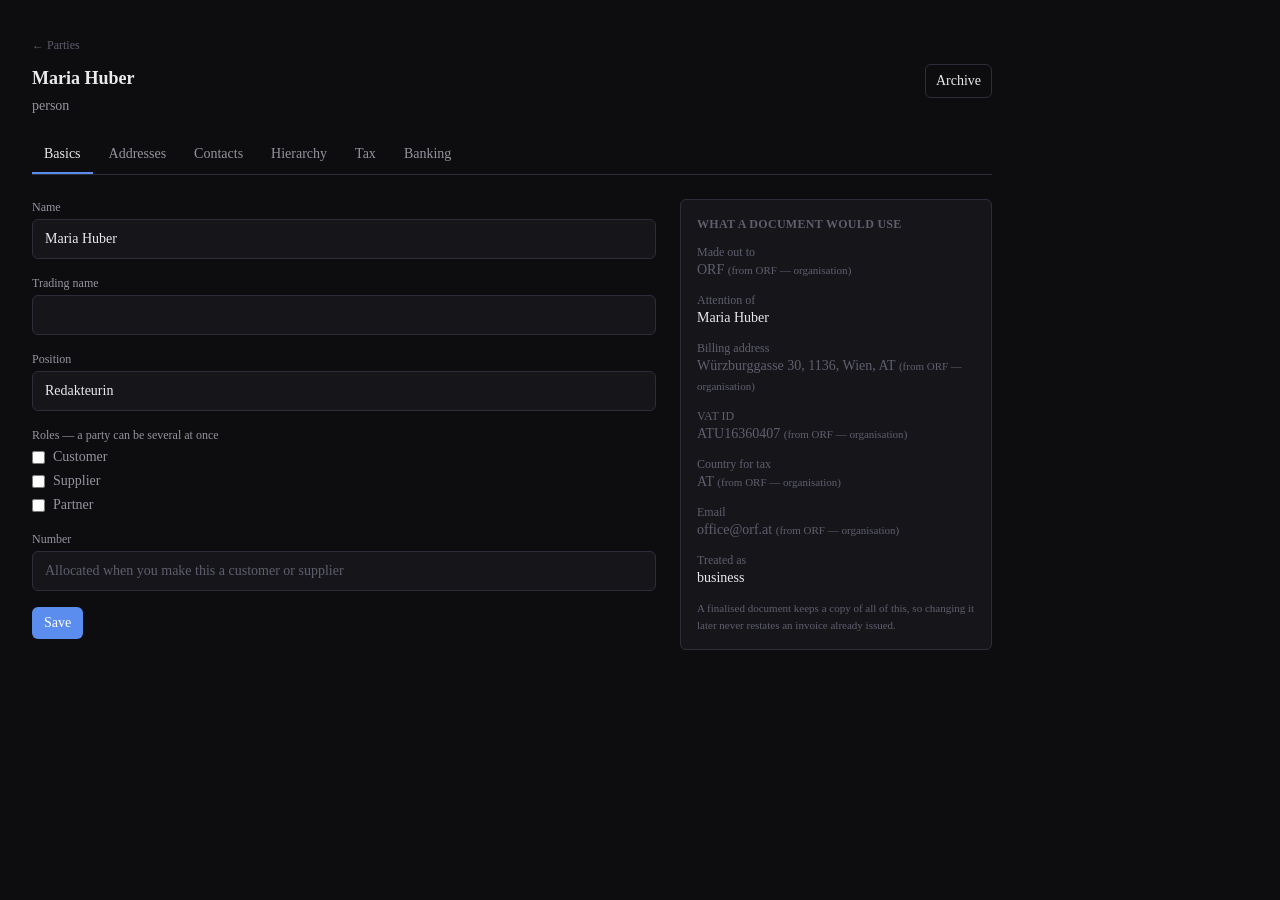
Test: the Tax tab shows what the server decided › says plainly when nothing can be proposed
Click the tab "Tax" at (366, 155), box [343,136,388,174]
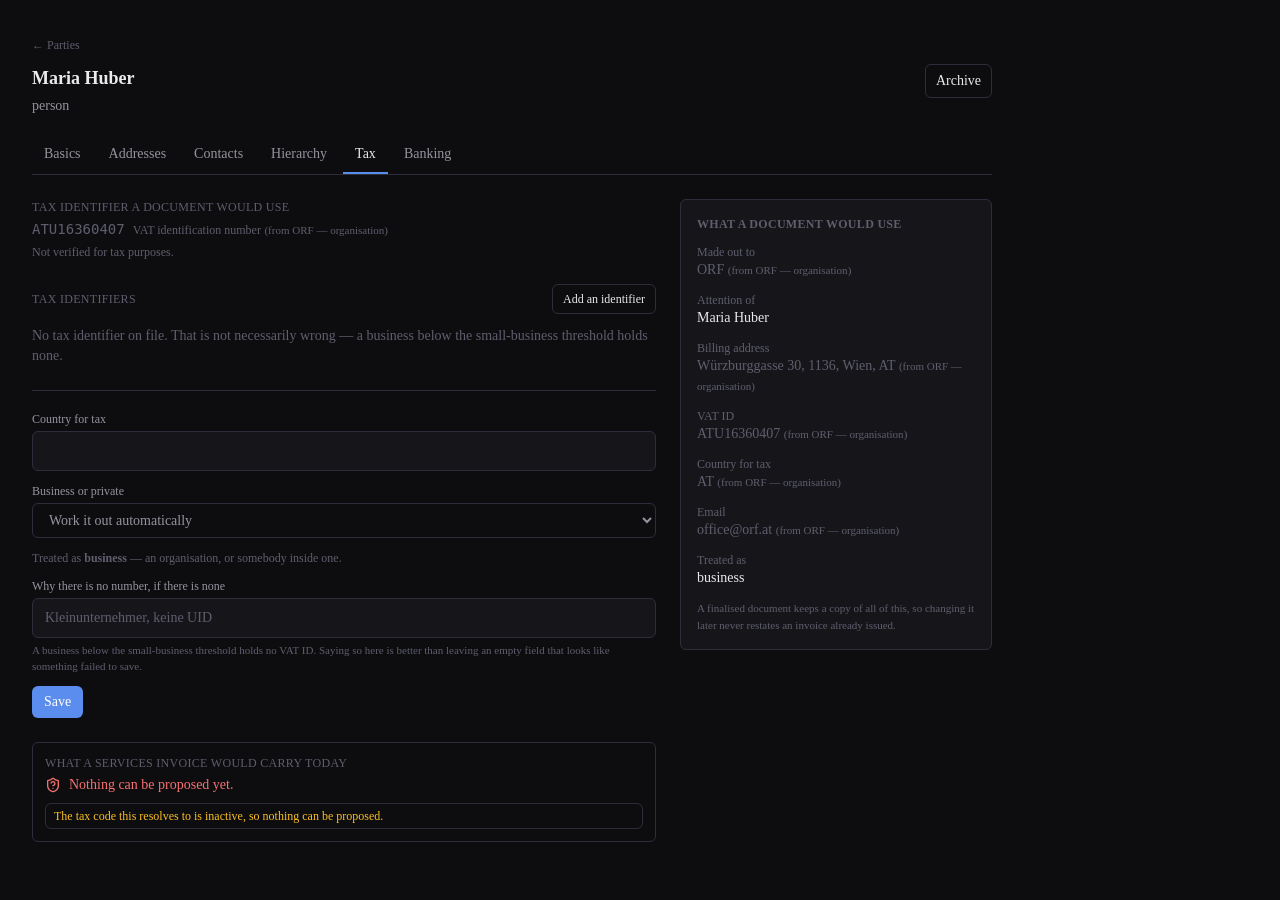
Check: the element with test id "party-tax-preview" shows "Nothing can be proposed yet", box [69,777,234,792]
Check: the text with test id "party-tax-warning-code_inactive" shows "inactive", box [54,809,383,823]
